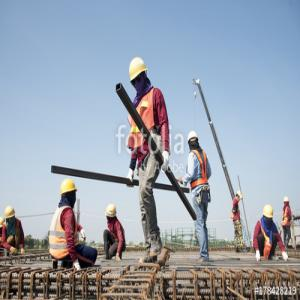white: (187, 132, 200, 149)
yellow: (129, 58, 149, 93), (61, 180, 78, 205), (263, 205, 274, 225), (5, 207, 16, 226), (106, 204, 117, 222), (284, 196, 290, 207), (237, 192, 242, 201)
